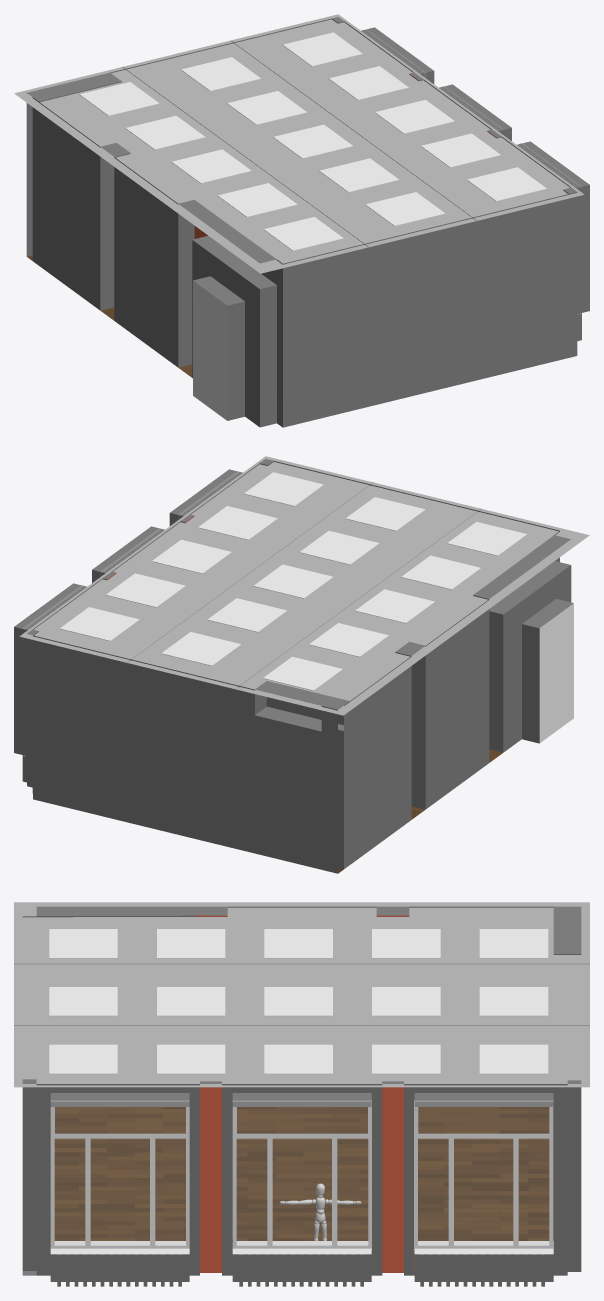
The picture shows the model from 3 angles, top to bottom: view 1: azimuth 30°, elevation 25°; view 2: azimuth 150°, elevation 25°; view 3: azimuth 270°, elevation 25°; orthographic projection. The views are drawn at different scales.
Parts seen in each view (by area): view 1: 205, Upper, Lamps; view 2: 205, Upper, Lamps; view 3: 205, Upper, Lamps, Window.001, Window.002, Window, HeatParts.003, HeatParts, HeatParts.002, Human Scale Reference.
Boxes of the visible parts, bbox=[...] form: 205: bbox=[26, 17, 589, 427]; Upper: bbox=[14, 14, 584, 273]; Lamps: bbox=[79, 32, 546, 250]; 205: bbox=[14, 459, 573, 873]; Upper: bbox=[19, 456, 589, 715]; Lamps: bbox=[59, 472, 527, 690]; 205: bbox=[22, 906, 581, 1281]; Upper: bbox=[14, 902, 589, 1087]; Lamps: bbox=[49, 929, 548, 1074]; Window.001: bbox=[232, 1100, 371, 1249]; Window.002: bbox=[414, 1100, 553, 1249]; Window: bbox=[50, 1100, 189, 1248]; HeatParts.003: bbox=[413, 1250, 544, 1286]; HeatParts: bbox=[57, 1254, 181, 1286]; HeatParts.002: bbox=[239, 1254, 363, 1286]; Human Scale Reference: bbox=[279, 1183, 361, 1240].
Bounding box in the file's own units: 1068 × 474 × 1289.
8 materials, 2 textured.
